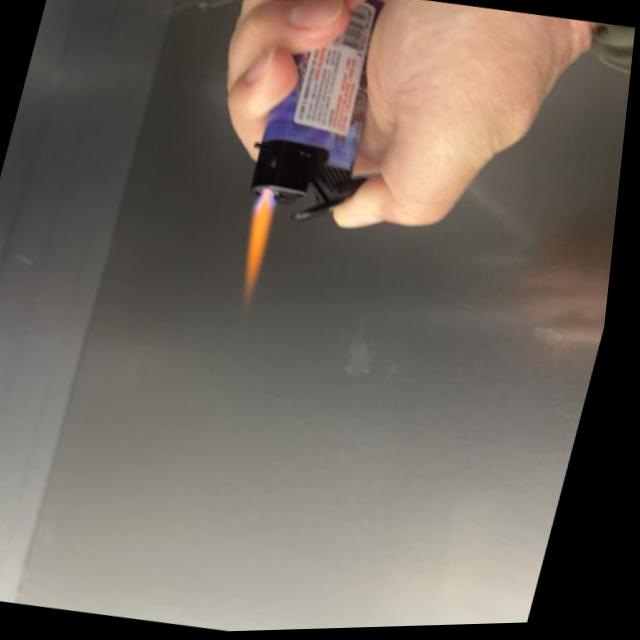Fire: (234, 191, 289, 309)
